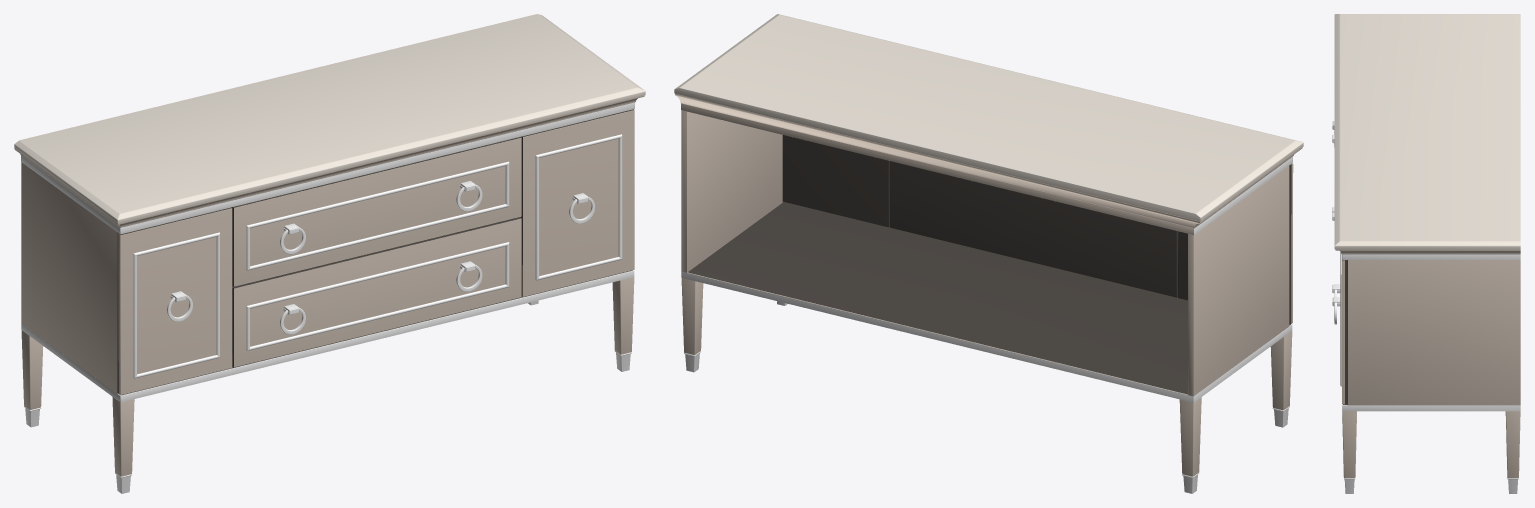
3 renders of one model, left to right at view 1: azimuth 30°, elevation 25°; view 2: azimuth 150°, elevation 25°; view 3: azimuth 270°, elevation 25°, orthographic. The views are drawn at different scales.
Visible parts, largest first — view 1: AV08; view 2: AV08; view 3: AV08.
Boxes of the visible parts, <box> form: AV08: <box>14,14,645,493</box>; AV08: <box>674,14,1303,493</box>; AV08: <box>1332,14,1520,493</box>.
Bounding box in the file's own units: 1.65 × 0.847 × 0.5666.
Materials: 6 (1 with a texture image).
